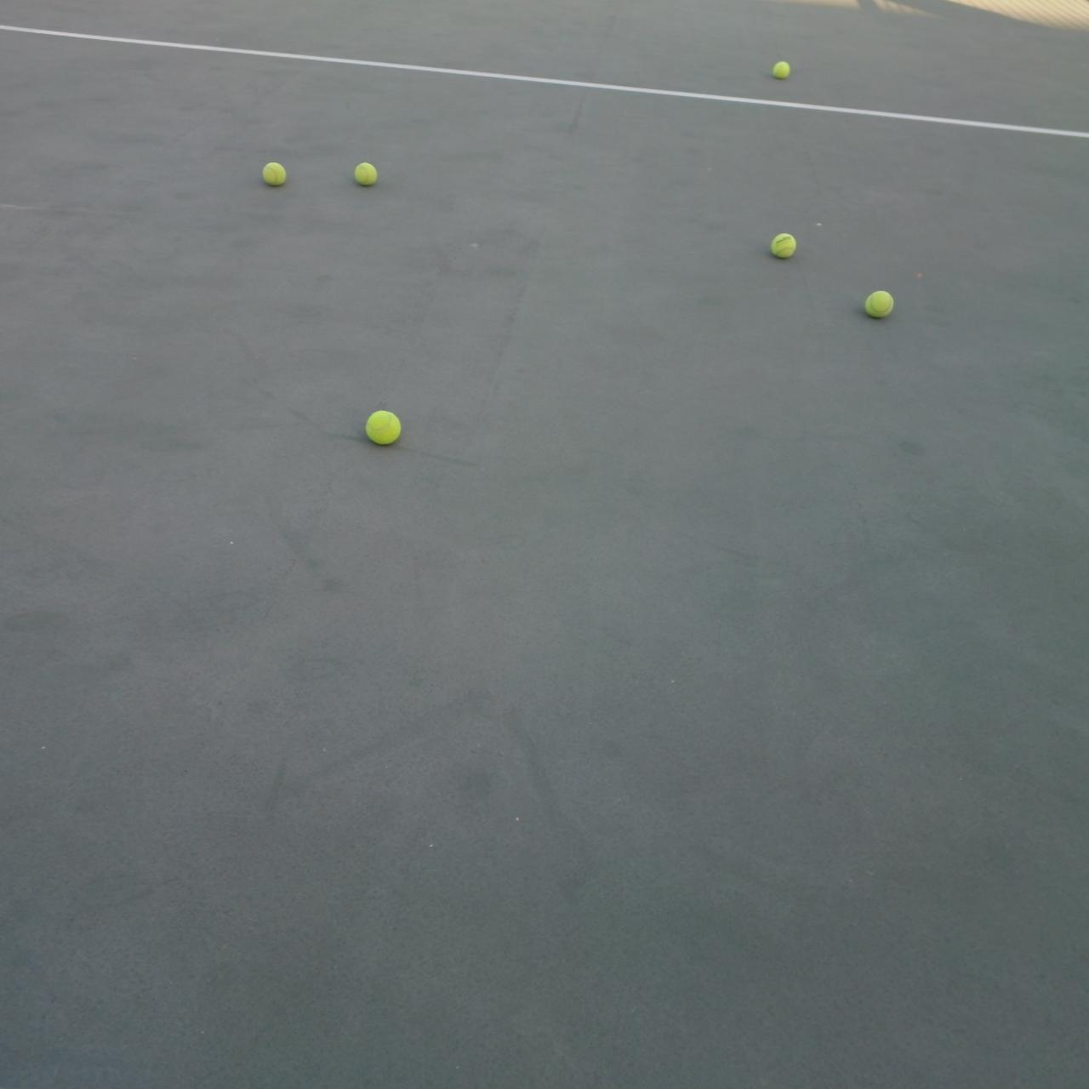tennis-ball: (365, 408, 403, 446), (864, 288, 896, 318), (771, 230, 798, 259), (262, 159, 288, 185), (353, 159, 379, 185), (773, 59, 792, 79)
